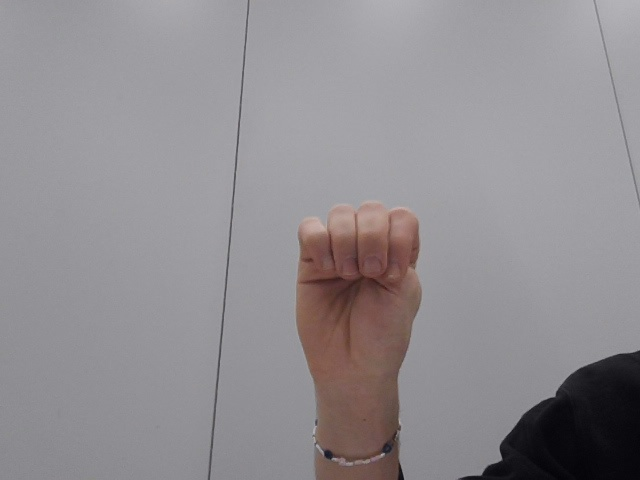down: (273, 195, 442, 414)
